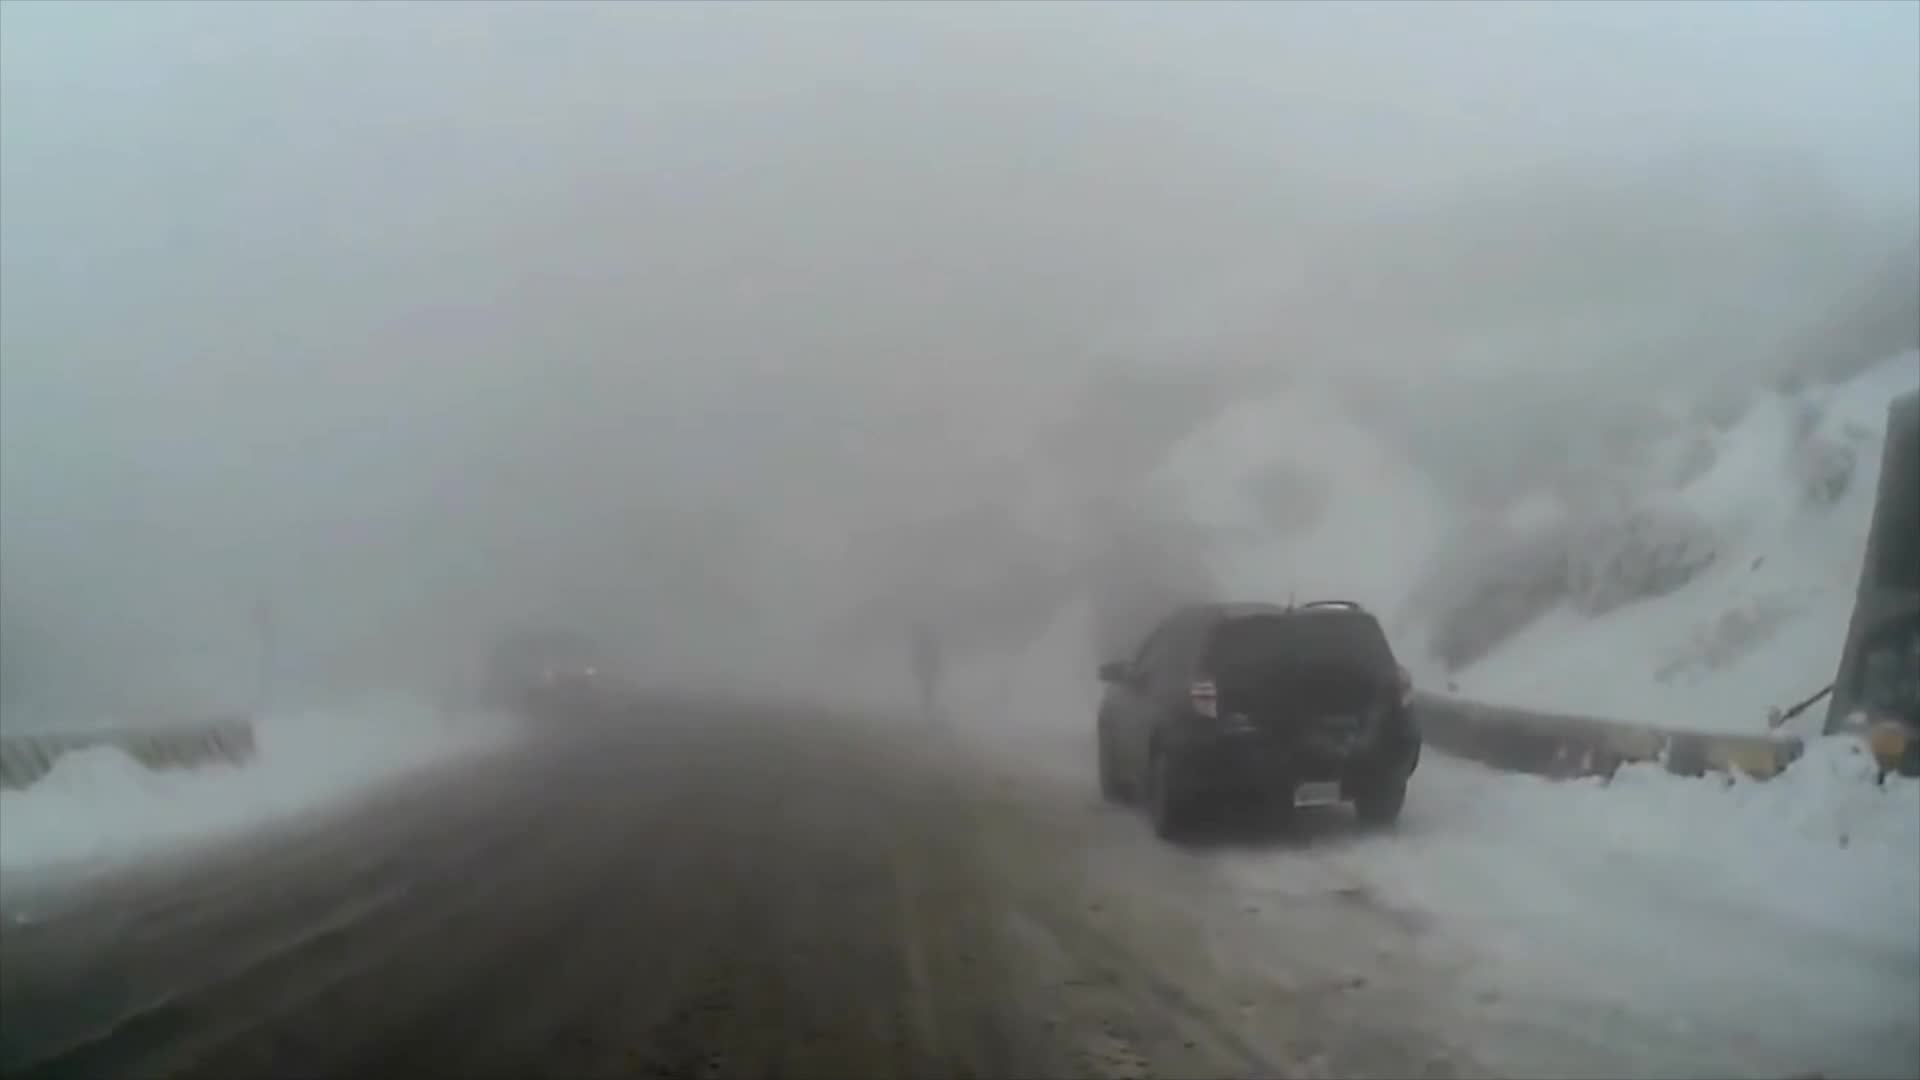vehicle: (1091, 595, 1420, 847)
